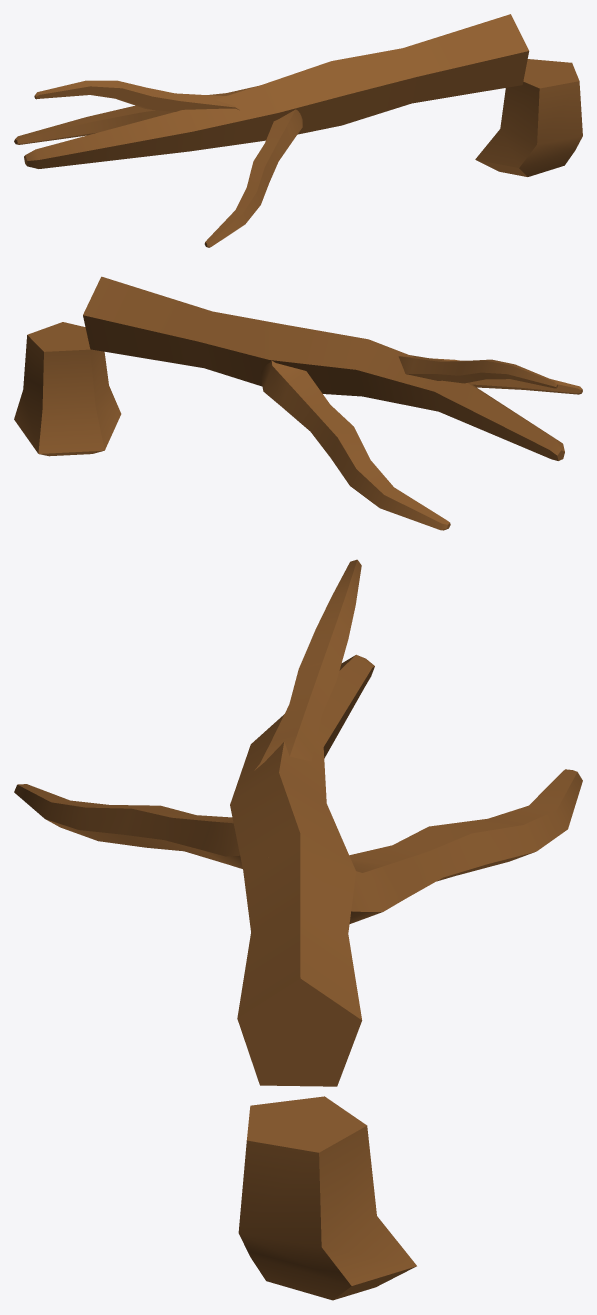
File: TreeStick.fbx
3 renders of one model, top to bottom at view 1: azimuth 30°, elevation 25°; view 2: azimuth 150°, elevation 25°; view 3: azimuth 270°, elevation 25°, orthographic. The views are drawn at different scales.
Parts seen in each view (by area): view 1: Cylinder, Cylinder.001; view 2: Cylinder, Cylinder.001; view 3: Cylinder, Cylinder.001.
Part boxes in pixels (box(x1,y1,x2,y2)): Cylinder: box(14, 14, 529, 247); Cylinder.001: box(475, 59, 582, 176); Cylinder: box(83, 276, 582, 530); Cylinder.001: box(14, 322, 121, 456); Cylinder: box(14, 559, 582, 1086); Cylinder.001: box(238, 1096, 416, 1300).
Bounding box in the file's own units: 527 × 178 × 282.
2 materials, 2 textured.
